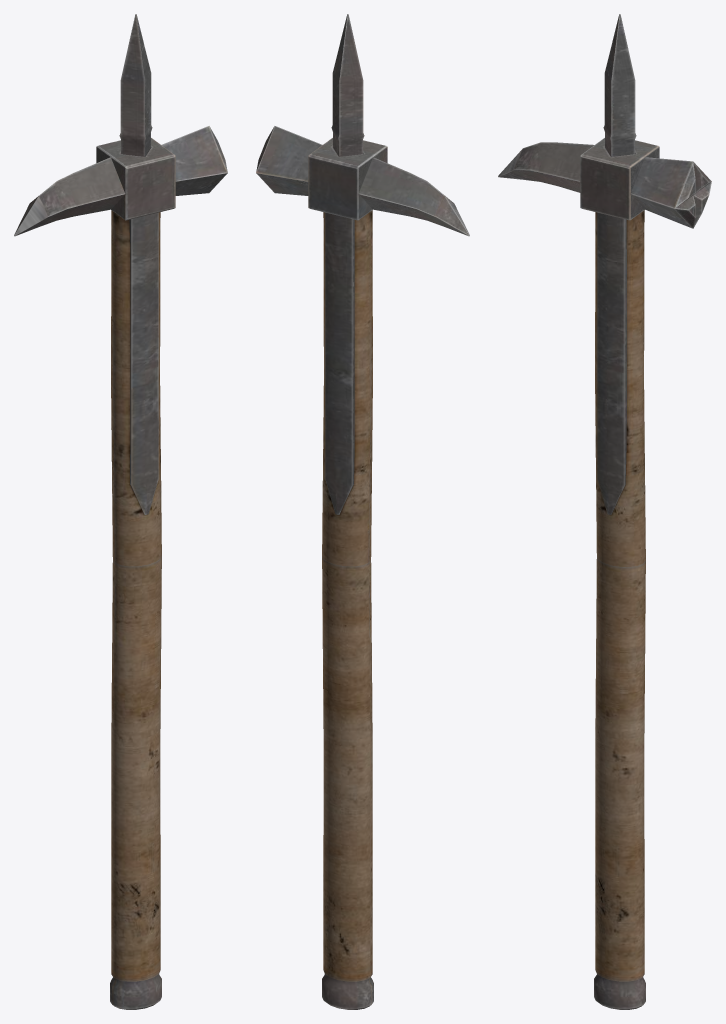
Rendered from mp_medievalwarhammer.glb.
3 renders of one model, left to right at view 1: azimuth 30°, elevation 25°; view 2: azimuth 150°, elevation 25°; view 3: azimuth 330°, elevation 25°, orthographic.
Parts seen in each view (by area): view 1: Cube; view 2: Cube; view 3: Cube.
Part boxes in pixels (left/top/right/bottom): Cube: left=14, top=14, right=227, bottom=1009; Cube: left=256, top=14, right=469, bottom=1009; Cube: left=498, top=14, right=711, bottom=1009.
Size of the model in its own units: 0.1953 by 0.92 by 0.0629.
Materials: 1 (1 with a texture image).
